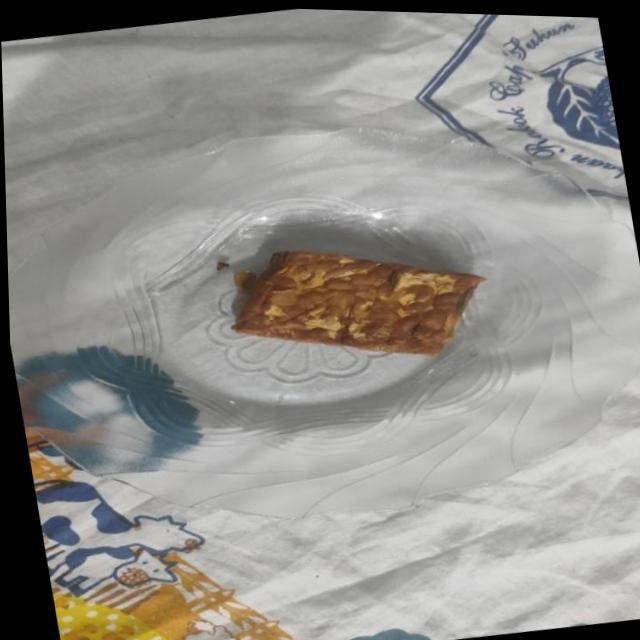tempe_goreng: (232, 251, 484, 356)
